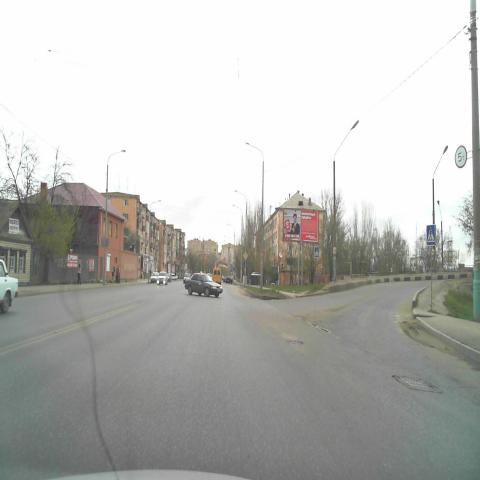3_11: (455, 144, 468, 169)
